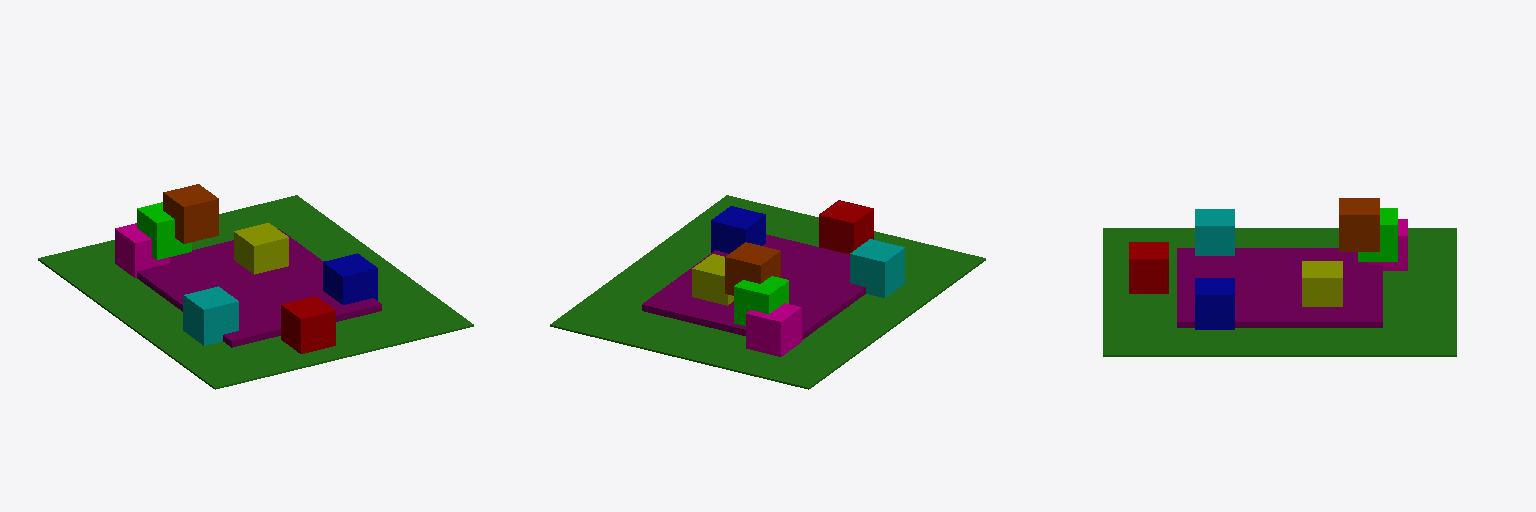
Rendered from simpleScene.obj.
3 renders of one model, left to right at view 1: azimuth 30°, elevation 25°; view 2: azimuth 150°, elevation 25°; view 3: azimuth 270°, elevation 25°, orthographic.
Visible parts, largest first — view 1: Object.1, Object.9, Object.4, Object.6, Object.8, Object.5, Object.3, Object.7, Object.2; view 2: Object.1, Object.9, Object.6, Object.2, Object.4, Object.5, Object.8, Object.7, Object.3; view 3: Object.1, Object.9, Object.8, Object.5, Object.4, Object.3, Object.6, Object.7, Object.2.
Part boxes in pixels (left/top/right/bottom): Object.1: left=38, top=195, right=473, bottom=389; Object.9: left=137, top=229, right=381, bottom=347; Object.4: left=281, top=296, right=335, bottom=353; Object.6: left=183, top=286, right=238, bottom=345; Object.8: left=163, top=184, right=218, bottom=243; Object.5: left=323, top=253, right=377, bottom=304; Object.3: left=234, top=223, right=288, bottom=274; Object.7: left=137, top=202, right=191, bottom=259; Object.2: left=115, top=223, right=169, bottom=277; Object.1: left=550, top=195, right=985, bottom=389; Object.9: left=642, top=234, right=865, bottom=339; Object.6: left=850, top=239, right=904, bottom=297; Object.2: left=746, top=303, right=801, bottom=356; Object.4: left=819, top=200, right=873, bottom=254; Object.5: left=711, top=206, right=765, bottom=253; Object.8: left=725, top=242, right=780, bottom=295; Object.7: left=734, top=276, right=788, bottom=325; Object.3: left=692, top=254, right=733, bottom=305; Object.1: left=1103, top=228, right=1456, bottom=356; Object.9: left=1177, top=248, right=1382, bottom=327; Object.8: left=1339, top=198, right=1379, bottom=251; Object.5: left=1195, top=278, right=1234, bottom=329; Object.4: left=1129, top=242, right=1168, bottom=293; Object.3: left=1302, top=261, right=1342, bottom=306; Object.6: left=1195, top=209, right=1234, bottom=255; Object.7: left=1358, top=208, right=1397, bottom=261; Object.2: left=1367, top=219, right=1407, bottom=270.
Size of the model in its own units: 3.09 by 0.8523 by 3.66.